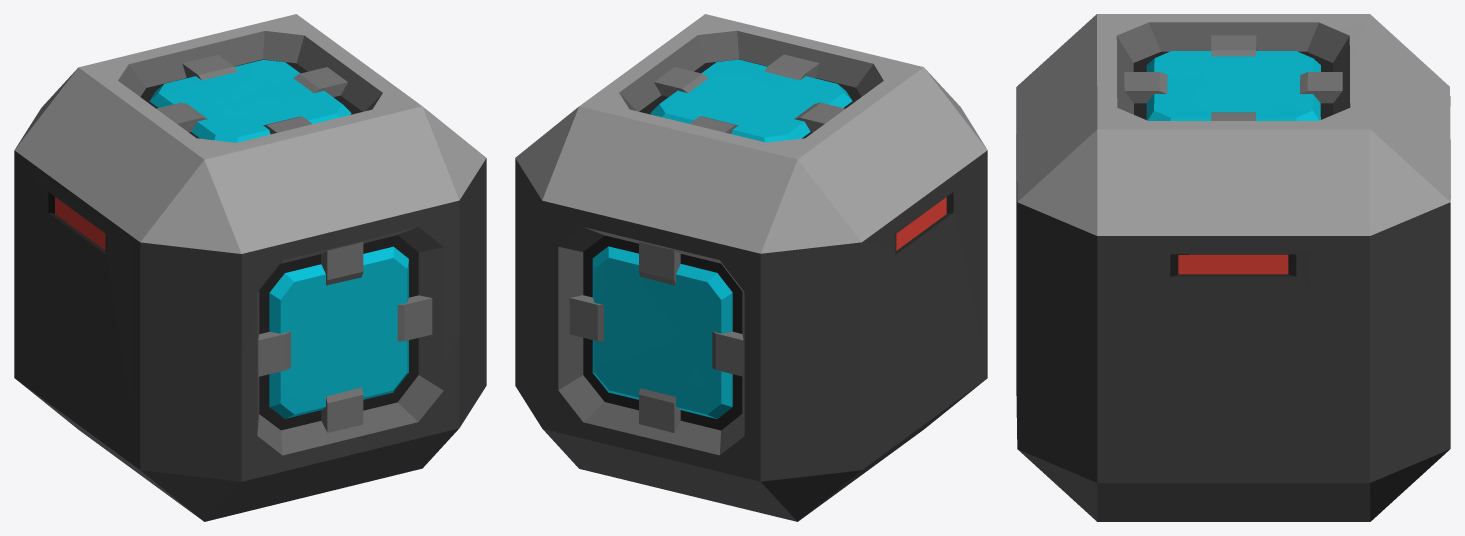
Rendered from prop_004.fbx.
3 renders of one model, left to right at view 1: azimuth 30°, elevation 25°; view 2: azimuth 150°, elevation 25°; view 3: azimuth 270°, elevation 25°, orthographic. The views are drawn at different scales.
Visible parts, largest first — view 1: prop_004; view 2: prop_004; view 3: prop_004.
Part boxes in pixels (bbox=[...]): prop_004: bbox=[14, 14, 486, 521]; prop_004: bbox=[515, 14, 987, 521]; prop_004: bbox=[1016, 14, 1450, 521].
Size of the model in its own units: 102 by 102 by 102.
